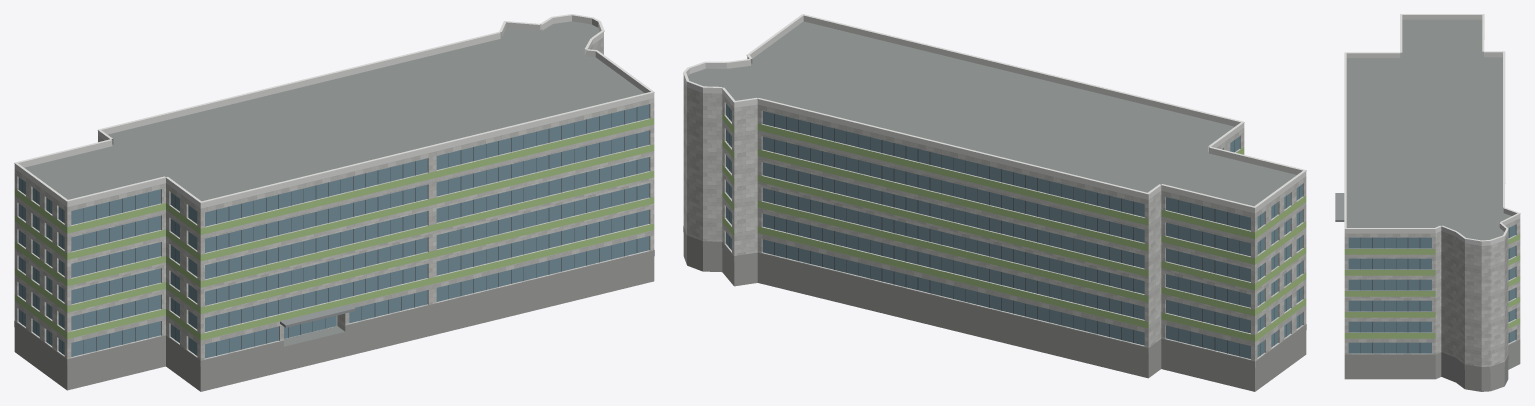
The picture shows the model from 3 angles, left to right: view 1: azimuth 30°, elevation 25°; view 2: azimuth 150°, elevation 25°; view 3: azimuth 270°, elevation 25°; orthographic projection. The views are drawn at different scales.
Parts seen in each view (by area): view 1: eng2__glass, eng2__roof, eng2__wall, eng2__wall2, eng2__base, eng2__parapet, eng2__frame, eng2__trim, eng2__canopy; view 2: eng2__roof, eng2__glass, eng2__wall, eng2__wall2, eng2__base, eng2__parapet, eng2__frame, eng2__trim; view 3: eng2__roof, eng2__wall, eng2__glass, eng2__base, eng2__wall2, eng2__trim, eng2__parapet, eng2__frame, eng2__canopy.
Boxes of the visible parts, bbox=[...] form: eng2__glass: bbox=[18, 104, 649, 358]; eng2__roof: bbox=[24, 21, 644, 346]; eng2__wall: bbox=[14, 37, 654, 366]; eng2__wall2: bbox=[14, 118, 654, 340]; eng2__base: bbox=[14, 250, 654, 391]; eng2__parapet: bbox=[14, 15, 654, 208]; eng2__frame: bbox=[22, 107, 637, 355]; eng2__trim: bbox=[14, 14, 654, 203]; eng2__canopy: bbox=[280, 304, 355, 327]; eng2__roof: bbox=[687, 21, 1296, 206]; eng2__glass: bbox=[726, 104, 1302, 358]; eng2__wall: bbox=[683, 78, 1306, 367]; eng2__wall2: bbox=[722, 113, 1306, 341]; eng2__base: bbox=[683, 226, 1306, 391]; eng2__parapet: bbox=[683, 15, 1306, 213]; eng2__frame: bbox=[729, 108, 1299, 356]; eng2__trim: bbox=[683, 14, 1306, 208]; eng2__roof: bbox=[1346, 19, 1511, 240]; eng2__wall: bbox=[1344, 218, 1520, 370]; eng2__glass: bbox=[1348, 225, 1515, 353]; eng2__base: bbox=[1344, 339, 1520, 391]; eng2__wall2: bbox=[1344, 234, 1520, 338]; eng2__trim: bbox=[1344, 14, 1520, 241]; eng2__parapet: bbox=[1344, 15, 1520, 245]; eng2__frame: bbox=[1360, 227, 1509, 353]; eng2__canopy: bbox=[1335, 193, 1344, 221].
Size of the model in its own units: 85.91 by 26.55 by 29.56.
Materials: 10 (1 with a texture image).
